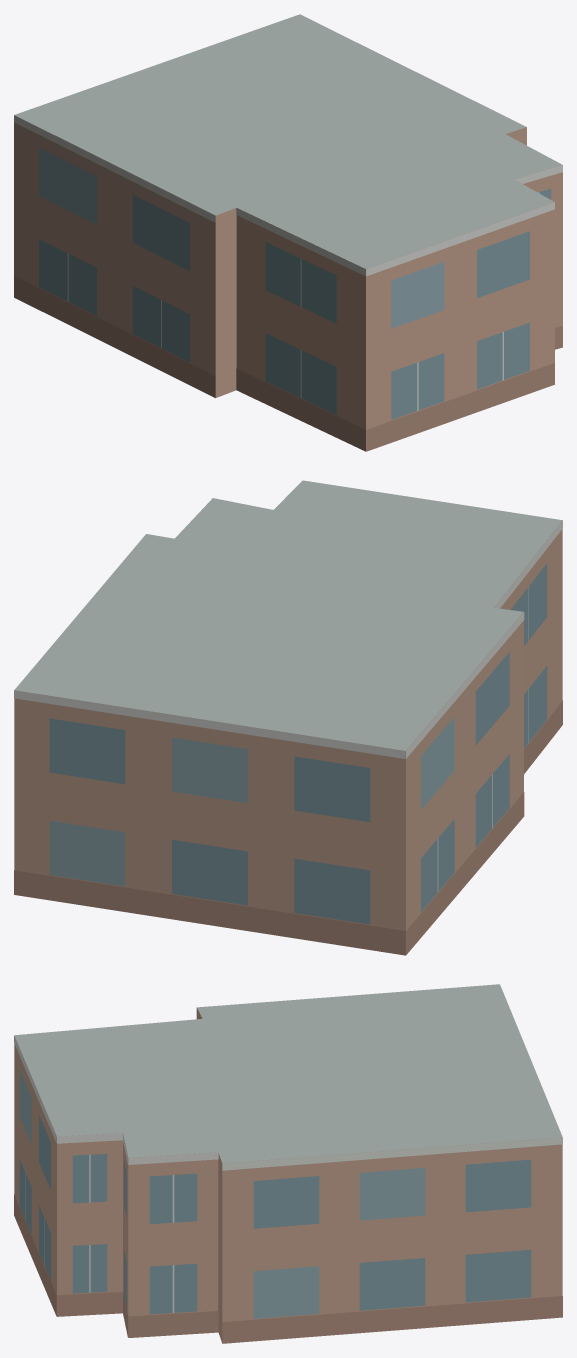
File: survey-upis-32878153.glb
The picture shows the model from 3 angles, top to bottom: view 1: azimuth 30°, elevation 25°; view 2: azimuth 150°, elevation 25°; view 3: azimuth 270°, elevation 25°; orthographic projection. The views are drawn at different scales.
Visible parts, largest first — view 1: survey-upis-32878153.tmp; view 2: survey-upis-32878153.tmp; view 3: survey-upis-32878153.tmp.
Boxes of the visible parts, x1=… form: survey-upis-32878153.tmp: x1=14, y1=14, x2=562, y2=451; survey-upis-32878153.tmp: x1=14, y1=480, x2=562, y2=955; survey-upis-32878153.tmp: x1=14, y1=984, x2=562, y2=1343.
Size of the model in its own units: 13.03 by 6.1 by 16.84.
